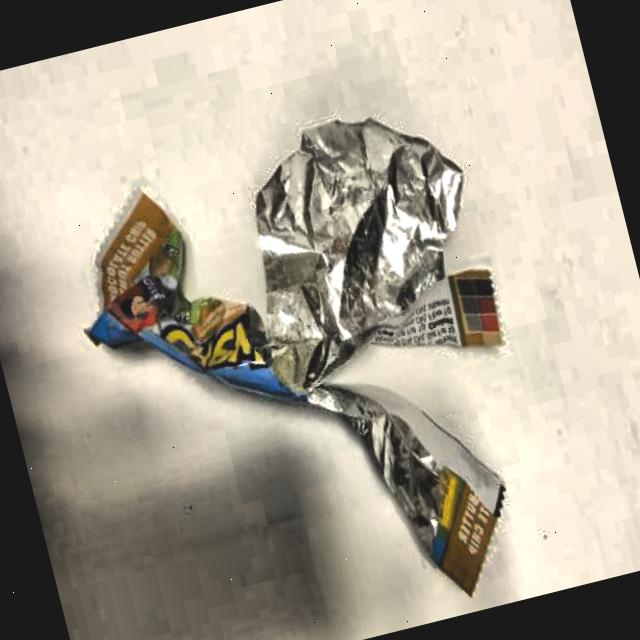trash: (78, 75, 558, 640)
